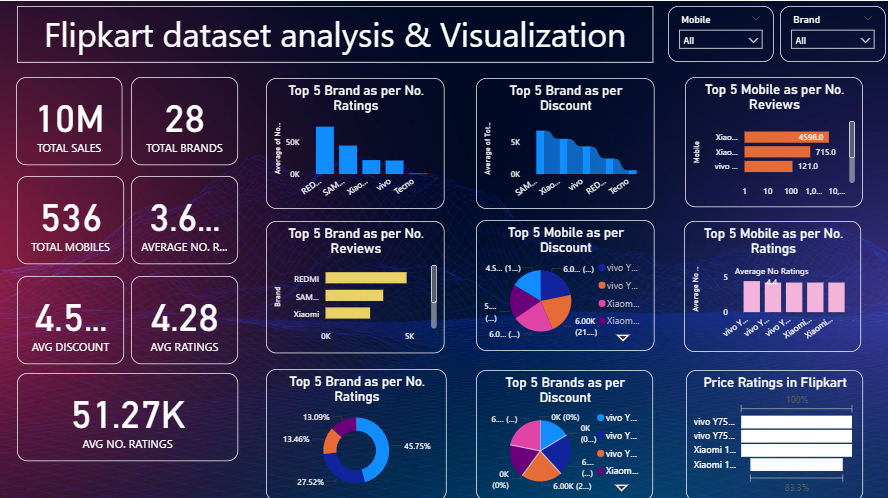

The dashboard page shown, as its layout file describes it:
{"tool":"powerbi","page":{"name":"Page 1","canvas":[1280,720],"ordinal":0},"visuals":[{"type":"textbox","box":[26.9,13.4,908.8,80.6],"z":0},{"type":"card","fields":{"Values":["Flipkart.Total Sales"]},"box":[26.1,114.5,152.2,126.1],"z":1000},{"type":"card","fields":{"Values":["Flipkart.Average No Ratings"]},"box":[189.8,398.1,152.9,126],"z":2000},{"type":"card","fields":{"Values":["Flipkart.Total Brands"]},"box":[189.8,114.2,152.9,126],"z":3000},{"type":"card","fields":{"Values":["Avg(Flipkart.Total Discount)"]},"box":[26.9,398.1,152.9,126],"z":4000},{"type":"card","fields":{"Values":["Flipkart.Average No of Reviews"]},"box":[189.8,255.3,152.9,126],"z":5000},{"type":"card","fields":{"Values":["Flipkart.Total Mobiles"]},"box":[26.9,255.3,152.9,126],"z":6000},{"type":"card","fields":{"Values":["Flipkart.Average of No.of Ratings"]},"box":[26.9,537.5,315.8,126],"z":7000},{"type":"columnChart","title":"Top 5 Brand as per  No. Ratings","fields":{"Y":["Avg(Flipkart.No of Ratings)"],"Category":["Flipkart.Brand"]},"box":[383,115.2,254.9,187.2],"z":8000},{"type":"clusteredBarChart","title":"Top 5 Brand as per  No. Reviews","fields":{"Category":["Flipkart.Brand"],"Y":["Avg(Flipkart.No of Reviews)"]},"box":[383,319.7,254.9,188.6],"z":9000},{"type":"donutChart","title":"Top 5 Brand as per  No. Ratings","fields":{"Category":["Flipkart.Brand"],"Y":["Avg(Flipkart.No of Ratings)"]},"box":[383,531.4,257.8,188.6],"z":10000},{"type":"ribbonChart","title":"Top 5 Brand as per Discount","fields":{"Y":["Avg(Flipkart.Total Discount)"],"Category":["Flipkart.Brand"]},"box":[682.6,115.2,254.9,187.2],"z":11000},{"type":"pieChart","title":"Top 5 Mobile as per Discount","fields":{"Category":["Flipkart.Mobile"],"Y":["Avg(Flipkart.Total Discount)"]},"box":[682.6,318.2,254.9,187.2],"z":12000},{"type":"pieChart","title":"Top 5 Brands as per Discount","fields":{"Category":["Flipkart.Mobile"],"Y":["Flipkart.Total Brands","Avg(Flipkart.Total Discount)"]},"box":[682.6,532.8,253.4,187.2],"z":13000},{"type":"columnChart","title":"Top 5 Mobile as per No. Ratings","fields":{"Category":["Flipkart.Mobile"],"Y":["Flipkart.Average No Ratings"]},"box":[980.6,319.7,253.4,187.2],"z":14000},{"type":"clusteredBarChart","title":"Top 5 Mobile as per No. Reviews","fields":{"Category":["Flipkart.Mobile"],"Y":["Flipkart.Average No of Reviews"]},"box":[981,114.2,253.6,186.5],"z":15000},{"type":"slicer","fields":{"Values":["Flipkart.Mobile"]},"box":[957.3,13.5,151,80.2],"z":16000},{"type":"slicer","fields":{"Values":["Flipkart.Brand"]},"box":[1116.7,13.5,151,80.2],"z":17000},{"type":"funnel","title":"Price Ratings in Flipkart","fields":{"Category":["Flipkart.Mobile"],"Y":["Sum(Flipkart.Total Discount)"]},"box":[982.3,532.3,253.1,187.5],"z":18000}]}

Visuals, with their boxes in screenshot pixels (x1, y1, x2, y2), scaled from the page's 1280x720 canvas onto the 888x498 screenshot:
textbox: x1=19 y1=9 x2=649 y2=65
card - Flipkart.Total Sales: x1=18 y1=79 x2=124 y2=166
card - Flipkart.Average No Ratings: x1=132 y1=275 x2=238 y2=363
card - Flipkart.Total Brands: x1=132 y1=79 x2=238 y2=166
card - Avg(Flipkart.Total Discount): x1=19 y1=275 x2=125 y2=363
card - Flipkart.Average No of Reviews: x1=132 y1=177 x2=238 y2=264
card - Flipkart.Total Mobiles: x1=19 y1=177 x2=125 y2=264
card - Flipkart.Average of No.of Ratings: x1=19 y1=372 x2=238 y2=459
"Top 5 Brand as per  No. Ratings" columnChart: x1=266 y1=80 x2=443 y2=209
"Top 5 Brand as per  No. Reviews" clusteredBarChart: x1=266 y1=221 x2=443 y2=352
"Top 5 Brand as per  No. Ratings" donutChart: x1=266 y1=368 x2=445 y2=497
"Top 5 Brand as per Discount" ribbonChart: x1=474 y1=80 x2=650 y2=209
"Top 5 Mobile as per Discount" pieChart: x1=474 y1=220 x2=650 y2=350
"Top 5 Brands as per Discount" pieChart: x1=474 y1=369 x2=649 y2=497
"Top 5 Mobile as per No. Ratings" columnChart: x1=680 y1=221 x2=856 y2=351
"Top 5 Mobile as per No. Reviews" clusteredBarChart: x1=681 y1=79 x2=857 y2=208
slicer - Flipkart.Mobile: x1=664 y1=9 x2=769 y2=65
slicer - Flipkart.Brand: x1=775 y1=9 x2=879 y2=65
"Price Ratings in Flipkart" funnel: x1=681 y1=368 x2=857 y2=497
